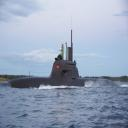submarine: (10, 31, 121, 89)
